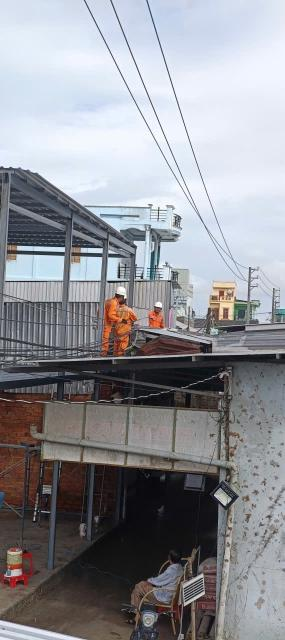gloves: (120, 318, 129, 325)
helmet: (114, 285, 127, 297), (151, 301, 164, 309), (119, 292, 128, 300)
